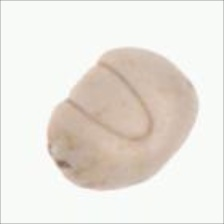L5: (65, 59, 159, 147), (139, 126, 188, 180)
L6: (43, 43, 199, 194)
